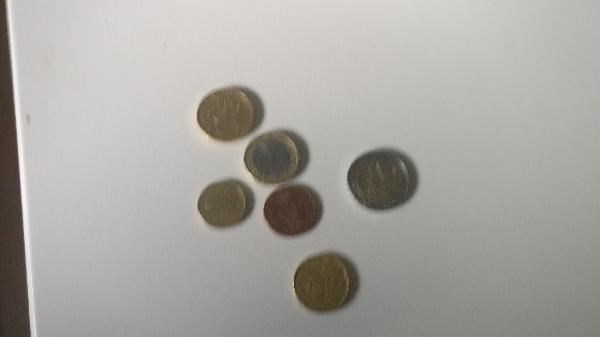Fifty Cent: (197, 88, 257, 141)
Five Cent: (262, 183, 326, 235)
One Euro: (245, 133, 301, 182)
Ten Cent: (197, 179, 251, 227)
Twenty Cent: (291, 254, 355, 311)
Two Euro: (345, 150, 417, 210)
